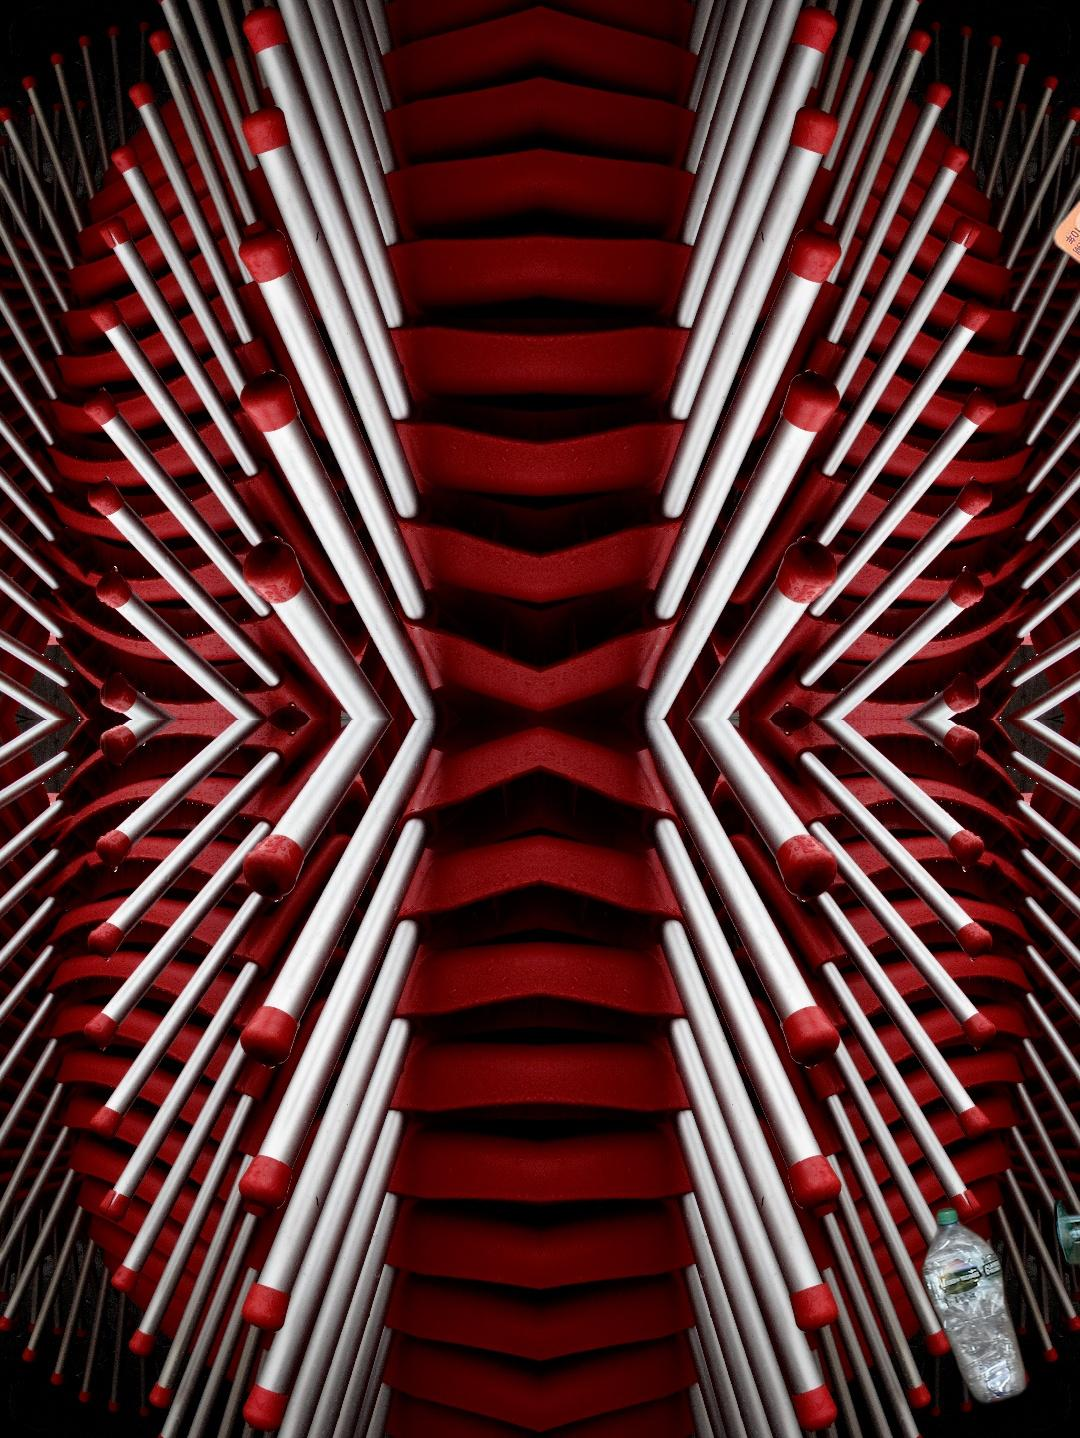battery: (1051, 39, 1080, 742)
glass: (1049, 1183, 1080, 1271)
plastic-bottles: (916, 1202, 1032, 1410)
